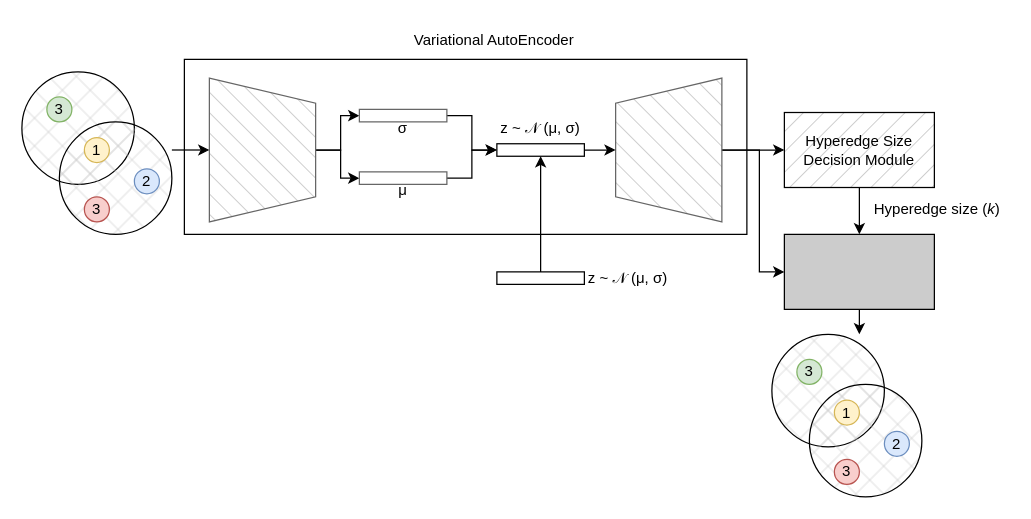
Image size: 1031x519. Some labels were removed from this diagram. The centre of each missing label's shape, as x and y in pixels:
"Decoder" belongs at point (668, 149).
"Encoder ( HypergraphConv )" belongs at point (262, 149).
"Node Sampler" belongs at point (858, 271).
